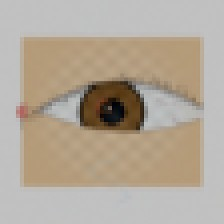foreign_body_visible: (82, 89, 128, 126)
